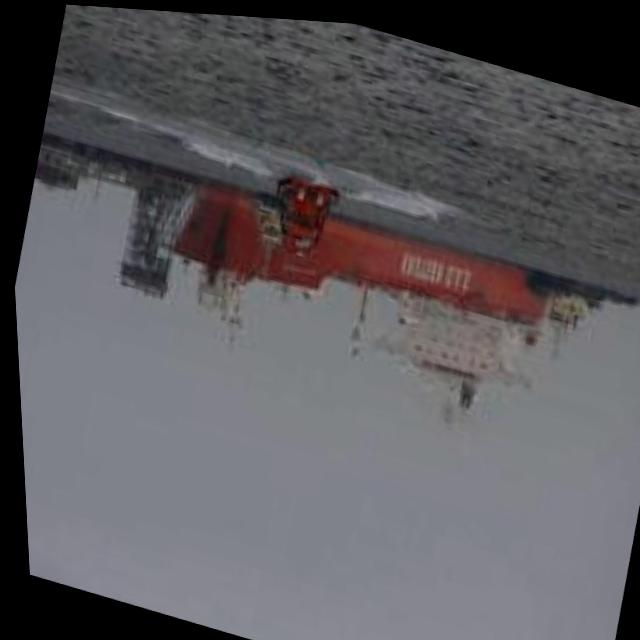ship2: (168, 177, 549, 419), (525, 268, 621, 325), (276, 172, 337, 258)
